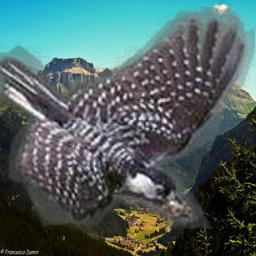Woodpecker: (0, 7, 255, 229)
